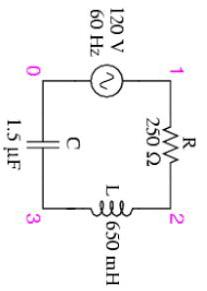inductor: (79, 194, 140, 217)
